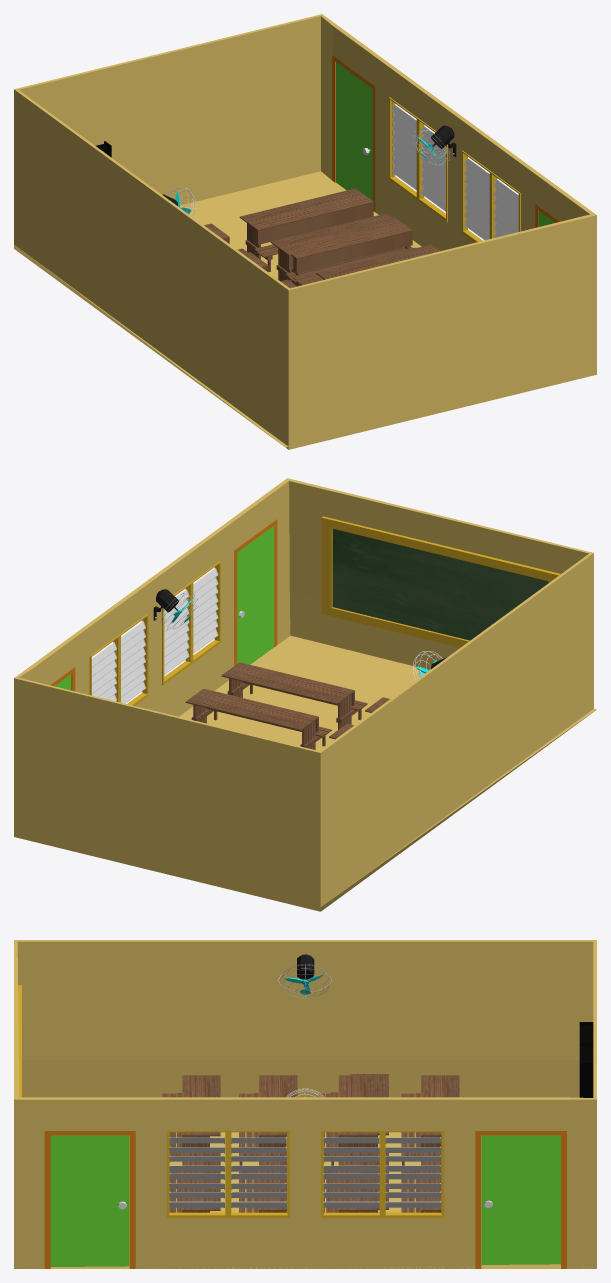
File: Room.fbx
3 views of the same model, one above another, from view 1: azimuth 30°, elevation 25°; view 2: azimuth 150°, elevation 25°; view 3: azimuth 270°, elevation 25° (orthographic). The views are drawn at different scales.
Parts seen in each view (by area): view 1: Plane.003, table.007, Door.001, table.004, table.009, Cube.004, Cube.001, Cube.003, Cube.002, Door_Frame.001, table.003; view 2: Plane.003, board, Plane, Door, table, table.003, Cube.002, Cube.003, Cube.001, Cube.004, Door_Frame; view 3: Plane.003, Door, Door.001, Cube.002, Cube.004, Cube.003, Cube.001, Door_Frame, Door_Frame.001, table.002, table.001, table.006 (+8 smaller).
Part boxes in pixels (x1,y1,x2,y2): Plane.003: (14,14,596,449); table.007: (239,188,373,271); Door.001: (336,62,372,200); table.004: (279,217,415,286); table.009: (270,213,412,285); Cube.004: (389,97,418,200); Cube.001: (461,150,491,242); Cube.003: (418,118,447,222); Cube.002: (490,172,520,238); Door_Frame.001: (332,55,375,211); table.003: (316,244,440,279); Plane.003: (14,478,596,911); board: (332,529,548,640); Plane: (321,516,560,647); Door: (237,526,274,664); table: (221,662,367,729); table.003: (185,688,331,749); Cube.002: (191,561,220,663); Cube.003: (119,614,148,705); Cube.001: (162,582,191,685); Cube.004: (89,635,119,702); Door_Frame: (234,519,277,665); Plane.003: (14,940,596,1268); Door: (50,1135,129,1266); Door.001: (481,1135,560,1264); Cube.002: (166,1131,228,1218); Cube.004: (382,1131,444,1218); Cube.003: (321,1131,382,1218); Cube.001: (228,1131,289,1218); Door_Frame: (44,1131,135,1268); Door_Frame.001: (475,1131,566,1268); table.002: (239,1075,297,1165); table.001: (162,1075,220,1155); table.006: (401,1075,459,1165).
Bounding box in the file's own units: 2946 × 1423 × 4438.
Materials: 39 (9 with a texture image).
